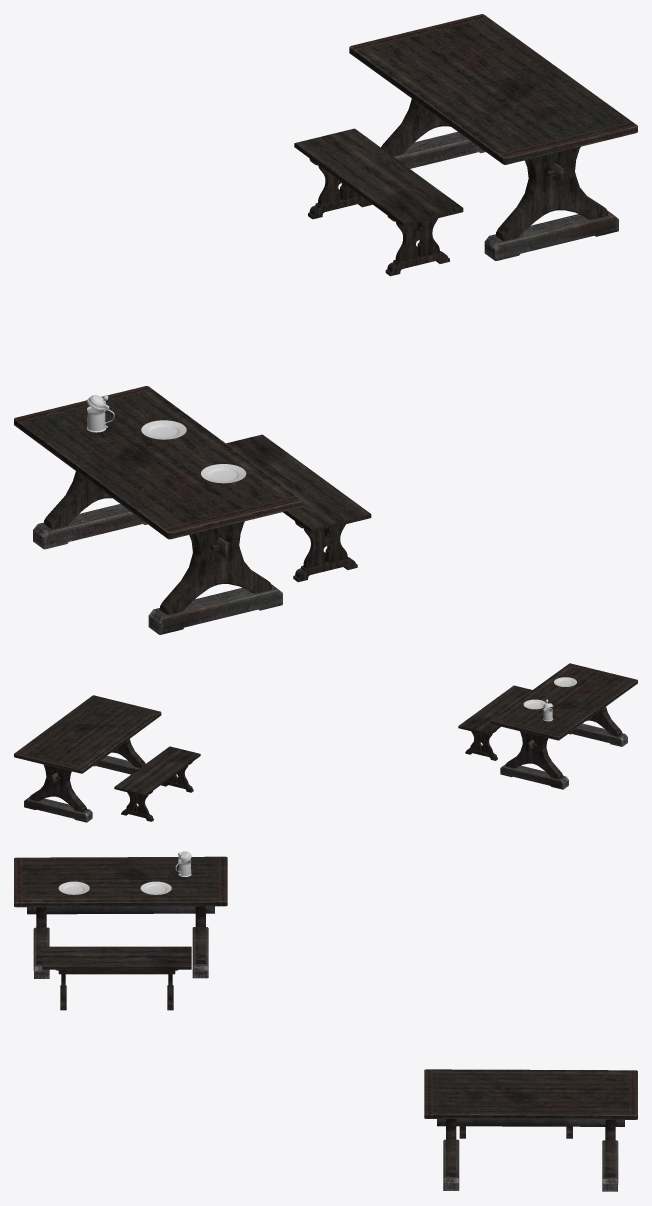
Rendered from Ausstellungsraum_Moebel.glb.
The picture shows the model from 3 angles, top to bottom: view 1: azimuth 30°, elevation 25°; view 2: azimuth 150°, elevation 25°; view 3: azimuth 270°, elevation 25°; orthographic projection. The views are drawn at different scales.
Visible parts, largest first — view 1: Deckel.002, Deckel.004; view 2: Deckel.002, Deckel.004; view 3: Deckel.004, Deckel.002.
Boxes of the visible parts, left/top/right/bottom form: Deckel.002: left=294, top=14, right=637, bottom=276; Deckel.004: left=14, top=386, right=371, bottom=634; Deckel.002: left=14, top=695, right=200, bottom=822; Deckel.004: left=458, top=663, right=637, bottom=789; Deckel.004: left=14, top=851, right=227, bottom=1010; Deckel.002: left=424, top=1069, right=637, bottom=1191.
Size of the model in its own units: 5.71 by 1.06 by 5.84.
2 materials, 1 textured.
